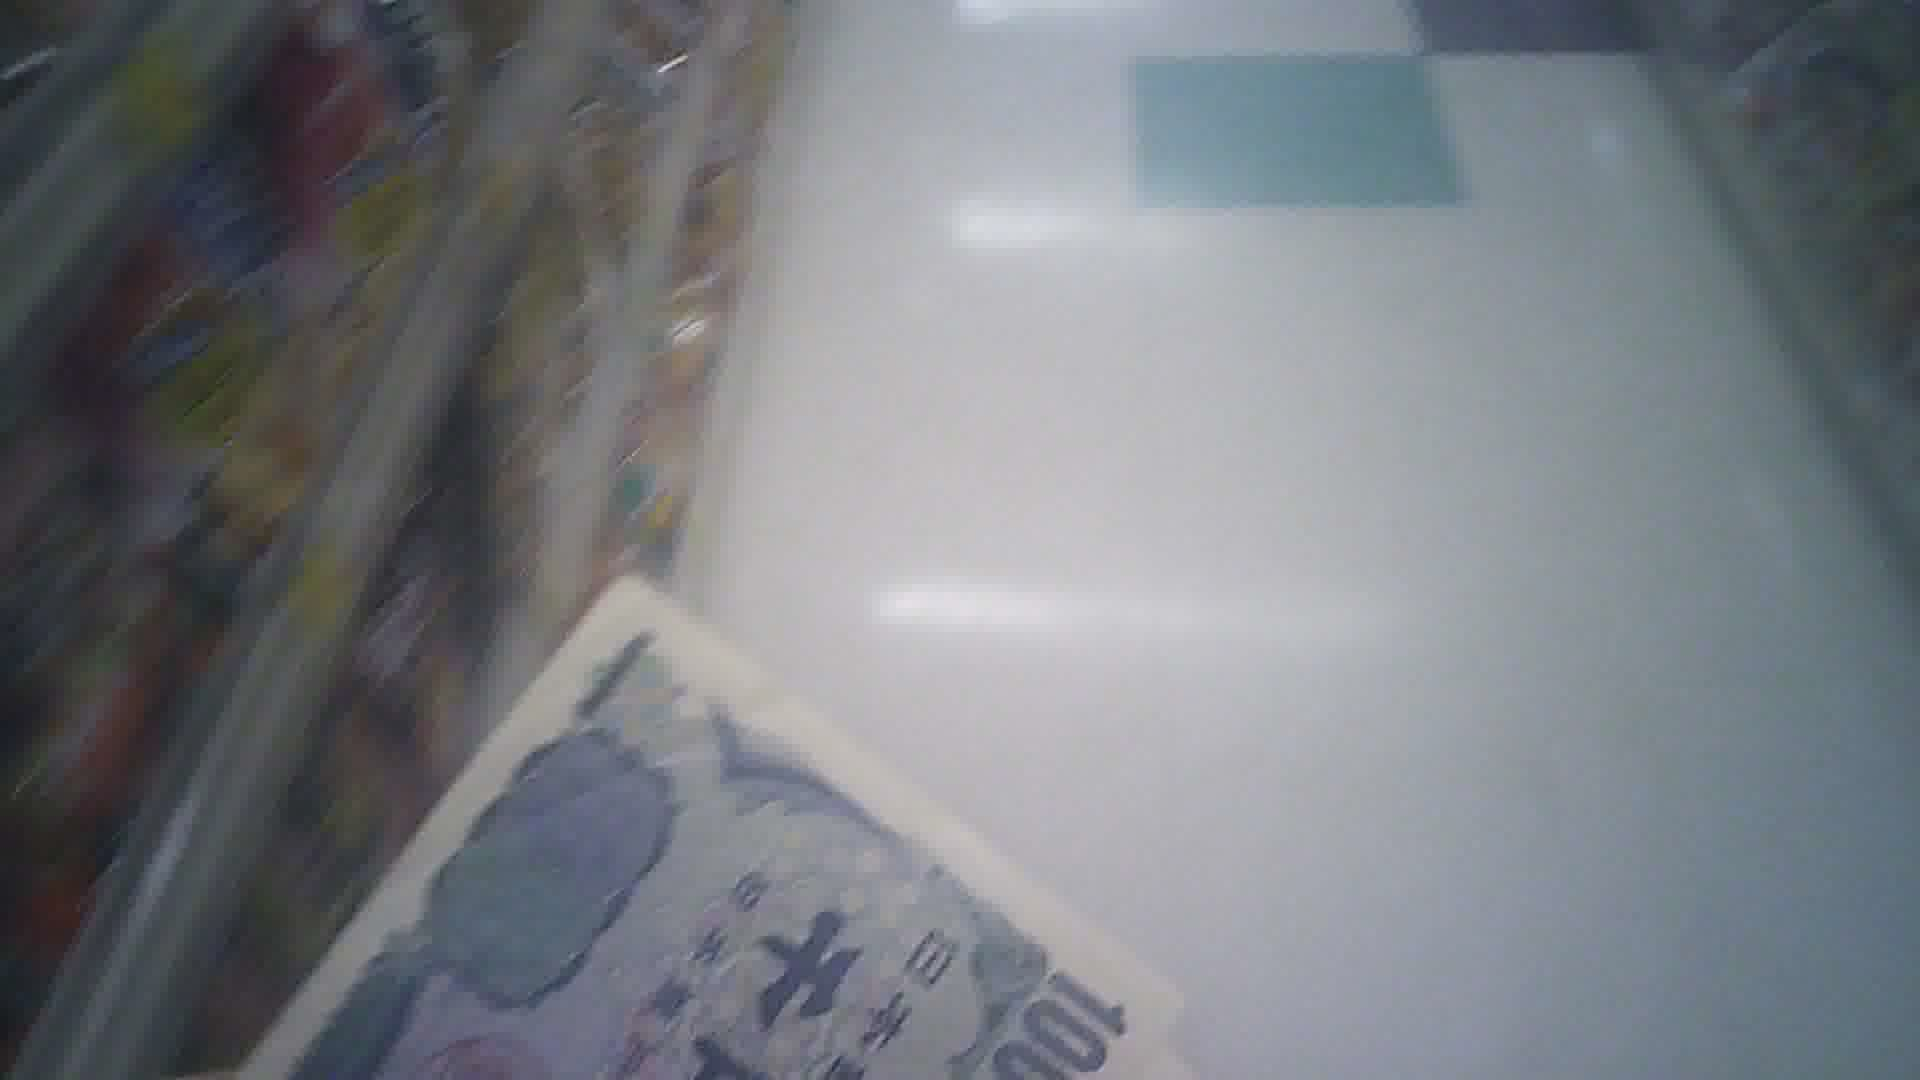1,000 Yen: (225, 588, 1153, 1079)
